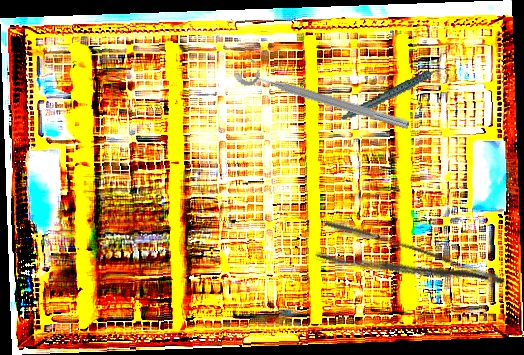Dressing Forceps: (313, 216, 508, 318)
Fixation Ring: (232, 53, 415, 135)
Handpiece: (335, 65, 456, 121)
